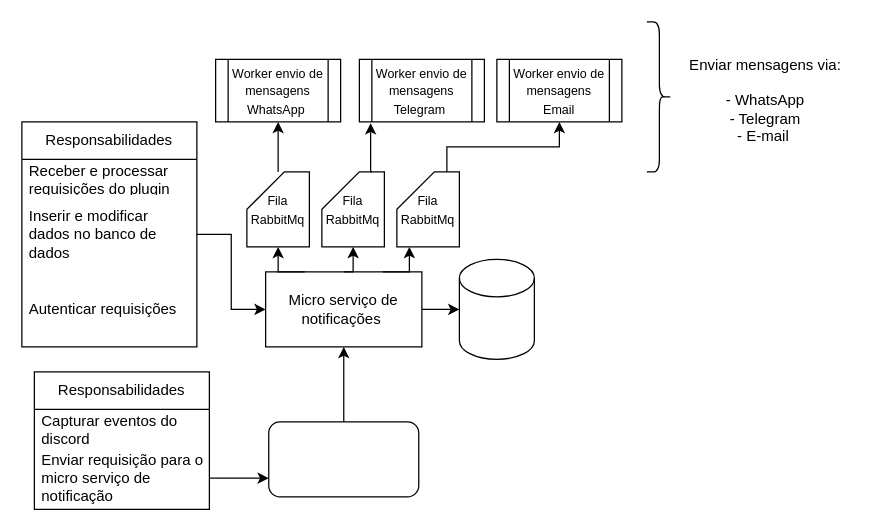
The diagram is 881 pixels wide and 531 high, and some of its shapes have lost their labels. Each missing label, with the centre of its shape:
"Discord Plugin usando discordJs" goes at [343,459].
"MariaDb" goes at [496,308].
